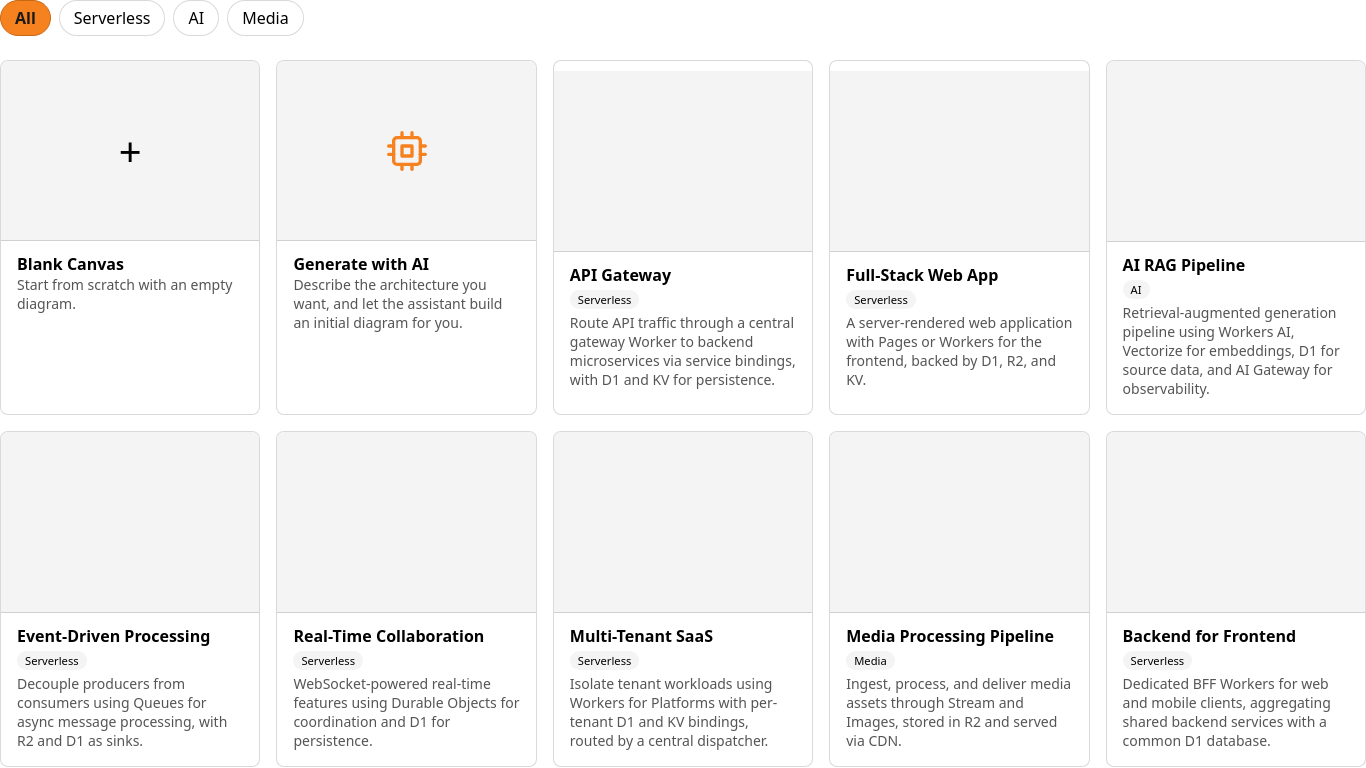
Test case: BlueprintGallery › closes the generate-with-ai modal when dismissed
This screenshot has width=1366, height=768.
Click the button "Generate with AI": click(407, 238) [276,60,537,415]
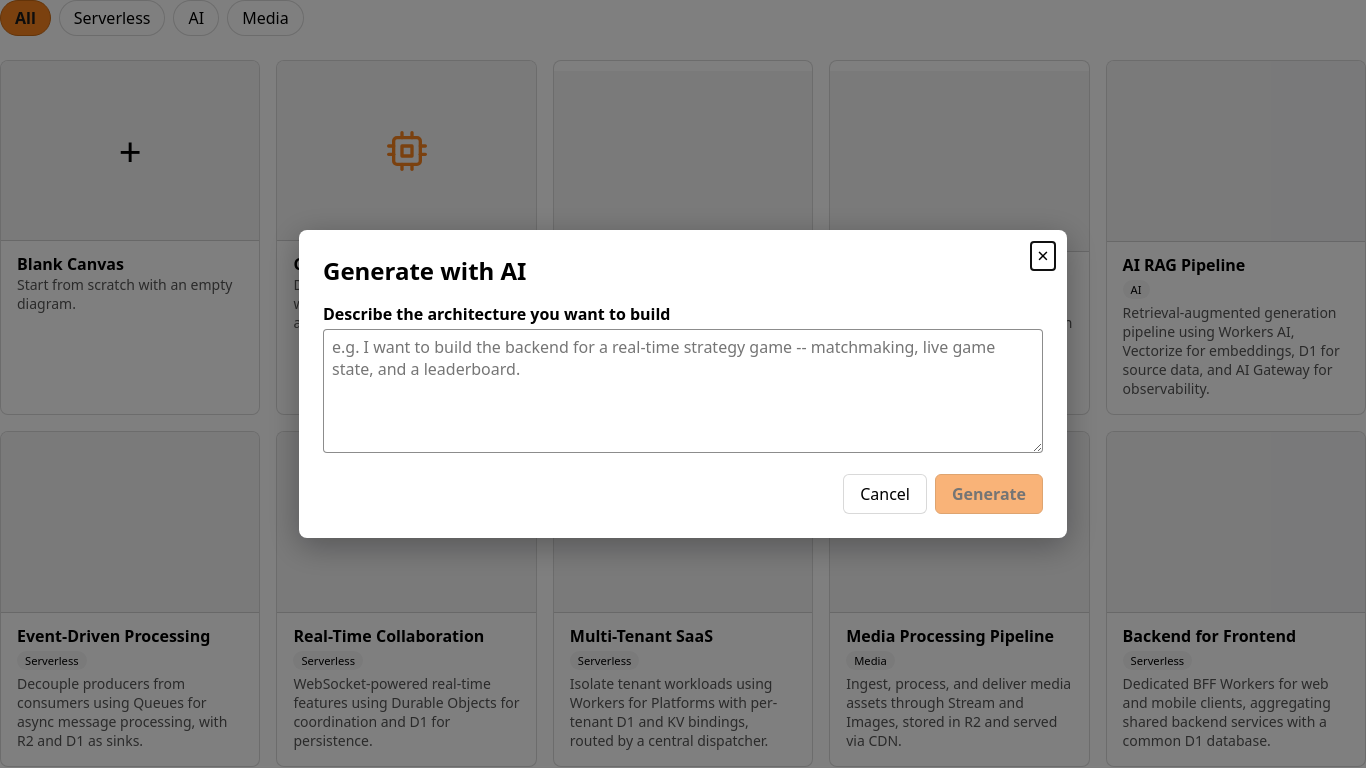
Click the button named "Close dialog": click(82, 384) [0,0,1365,767]
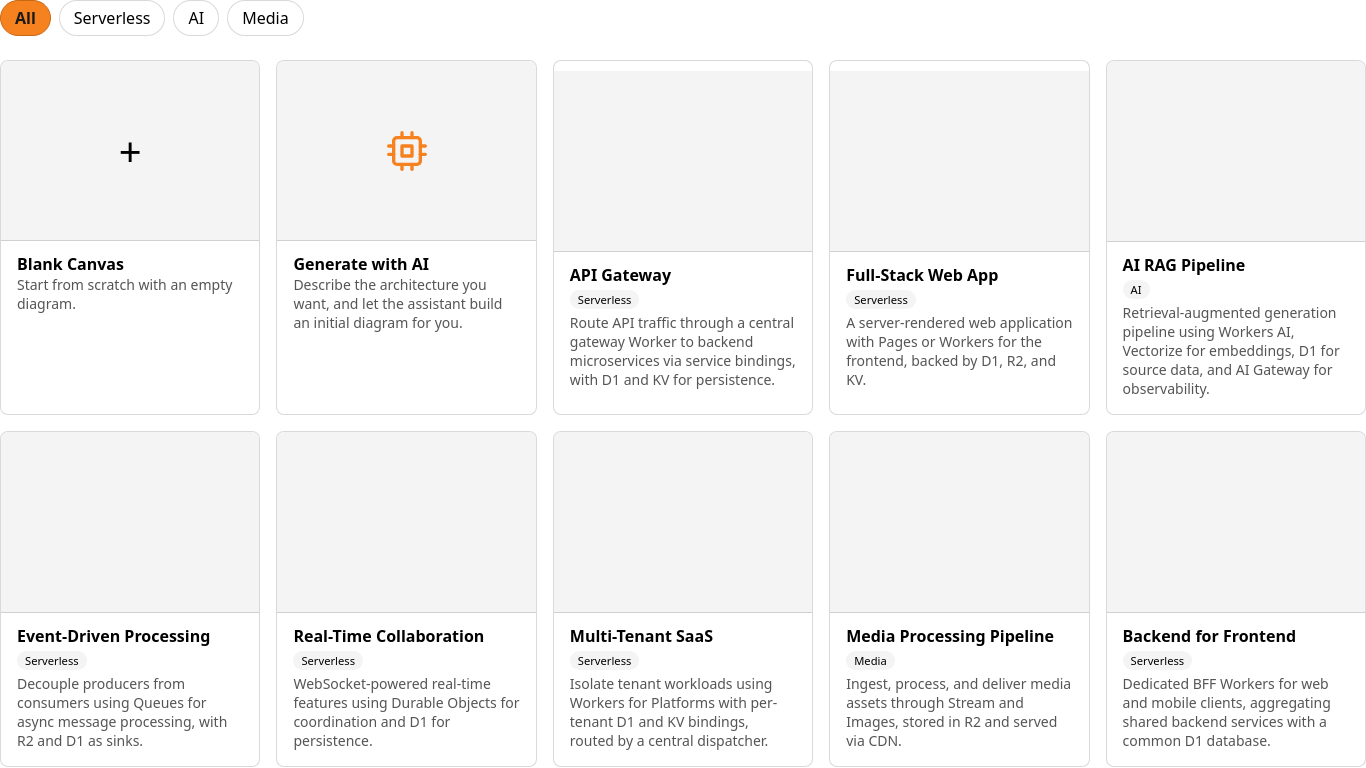
Check: the dialog is gone
